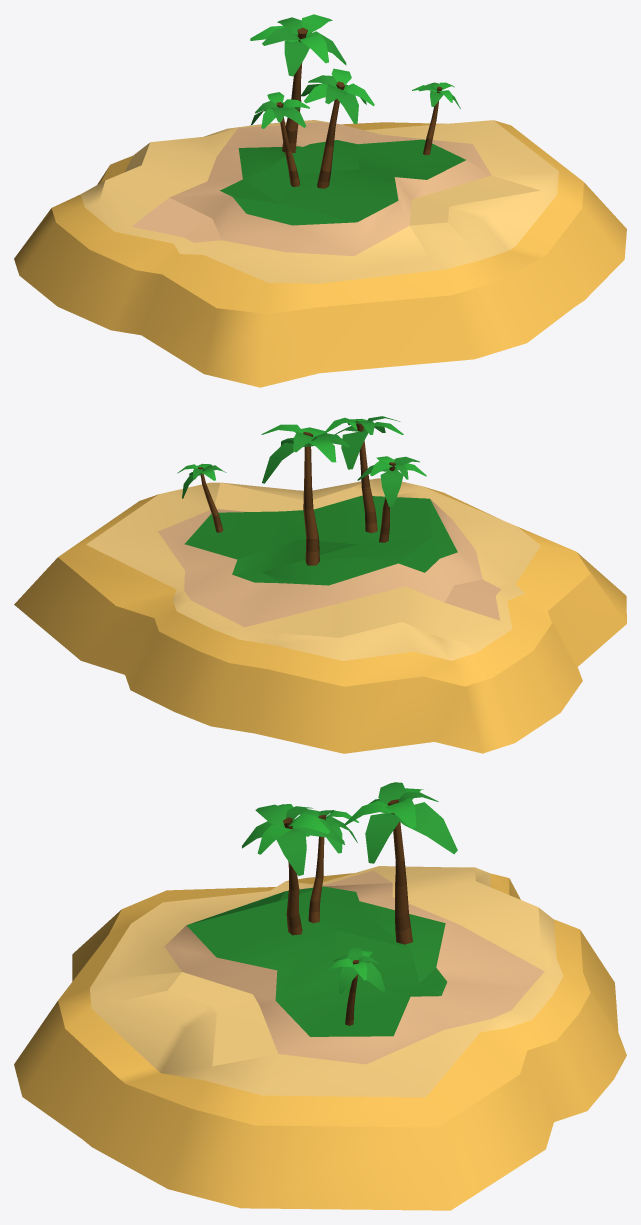
The model's file is Island_2.fbx.
3 renders of one model, top to bottom at view 1: azimuth 30°, elevation 25°; view 2: azimuth 150°, elevation 25°; view 3: azimuth 270°, elevation 25°, orthographic. The views are drawn at different scales.
Visible parts, largest first — view 1: Island_2, Palm_4, Palm_3, Palm_2, Palm_1; view 2: Island_2, Palm_4, Palm_3, Palm_2, Palm_1; view 3: Island_2, Palm_4, Palm_3, Palm_1, Palm_2.
Part boxes in pixels (<box>): Island_2: <box>14,120,626,387</box>; Palm_4: <box>250,14,346,152</box>; Palm_3: <box>300,68,374,188</box>; Palm_2: <box>250,92,309,186</box>; Palm_1: <box>412,82,460,155</box>; Island_2: <box>14,478,626,753</box>; Palm_4: <box>261,424,349,565</box>; Palm_3: <box>325,416,403,533</box>; Palm_2: <box>357,456,426,542</box>; Palm_1: <box>177,463,226,532</box>; Island_2: <box>14,866,626,1210</box>; Palm_4: <box>344,782,457,944</box>; Palm_3: <box>242,804,344,935</box>; Palm_1: <box>328,946,385,1025</box>; Palm_2: <box>299,809,358,923</box>.
Size of the model in its own units: 4982 by 2054 by 4351.
Materials: 1 (1 with a texture image).
